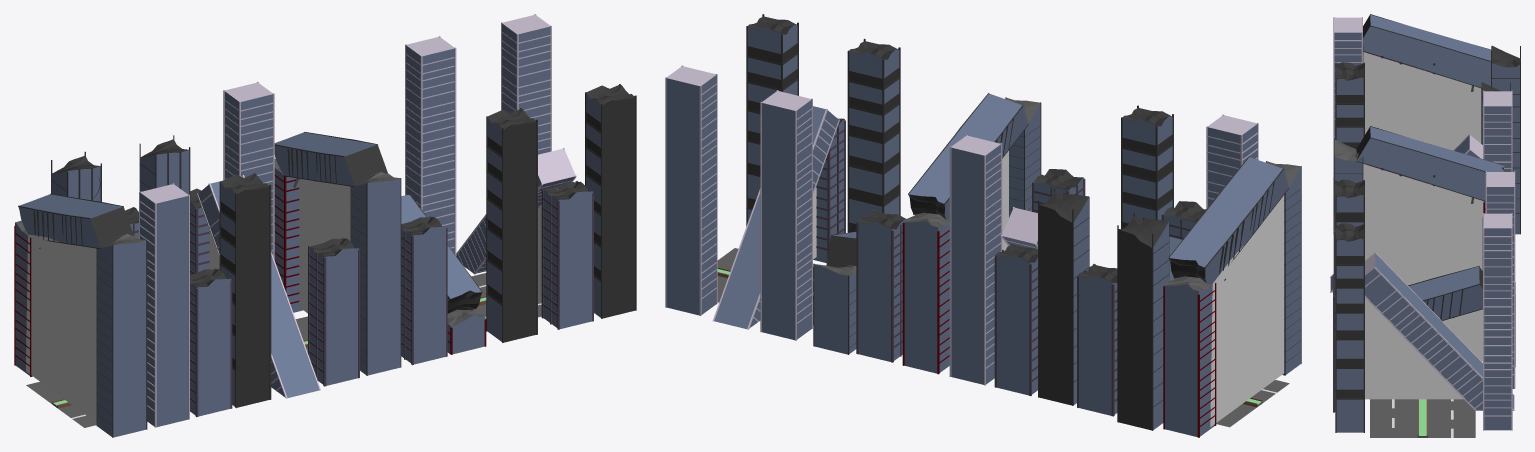
File: BuildingsWithPanels.fbx
3 views of the same model, side by side, from view 1: azimuth 30°, elevation 25°; view 2: azimuth 150°, elevation 25°; view 3: azimuth 270°, elevation 25° (orthographic). The views are drawn at different scales.
Parts seen in each view (by area): view 1: Plane.012, Plane.004, Plane.032, Plane.002, Plane.017, Plane.013, Plane.025, Plane.022, Plane.027, Plane.020, Plane.006, Plane.016 (+14 smaller); view 2: Plane.012, Plane.025, Plane.026, Plane.008, Plane.032, Plane.004, Plane.018, Plane.014, Plane.023, Plane, Plane.024, Plane.019 (+14 smaller); view 3: Plane.031, Plane.032, Plane.003, Plane.026, Plane.002, Plane.021, Plane, Plane.007, Plane.001, Plane.012, Plane.005, Plane.017 (+8 smaller).
Part boxes in pixels (left/top/right/bottom): Plane.012: left=51, top=151, right=189, bottom=427; Plane.004: left=486, top=108, right=537, bottom=342; Plane.032: left=26, top=234, right=96, bottom=422; Plane.002: left=585, top=84, right=636, bottom=318; Plane.017: left=219, top=173, right=271, bottom=408; Plane.013: left=96, top=233, right=147, bottom=437; Plane.025: left=405, top=36, right=456, bottom=255; Plane.022: left=350, top=171, right=401, bottom=375; Plane.027: left=541, top=181, right=593, bottom=329; Plane.020: left=308, top=237, right=359, bottom=386; Plane.006: left=401, top=216, right=447, bottom=365; Plane.016: left=190, top=268, right=232, bottom=417; Plane.012: left=1117, top=114, right=1258, bottom=430; Plane.025: left=760, top=90, right=812, bottom=340; Plane.026: left=665, top=65, right=717, bottom=315; Plane.008: left=949, top=134, right=1002, bottom=385; Plane.032: left=1210, top=195, right=1284, bottom=426; Plane.004: left=847, top=38, right=900, bottom=232; Plane.018: left=1038, top=188, right=1089, bottom=405; Plane.014: left=1163, top=276, right=1216, bottom=437; Plane.023: left=902, top=213, right=949, bottom=374; Plane: left=1168, top=156, right=1288, bottom=284; Plane.024: left=856, top=210, right=906, bottom=362; Plane.019: left=994, top=243, right=1037, bottom=395; Plane.031: left=1363, top=164, right=1483, bottom=285; Plane.032: left=1363, top=52, right=1481, bottom=150; Plane.003: left=1365, top=252, right=1514, bottom=410; Plane.026: left=1483, top=213, right=1512, bottom=430; Plane.002: left=1335, top=223, right=1364, bottom=432; Plane.021: left=1356, top=126, right=1504, bottom=203; Plane: left=1363, top=14, right=1491, bottom=91; Plane.007: left=1365, top=298, right=1463, bottom=399; Plane.001: left=1370, top=399, right=1475, bottom=437; Plane.012: left=1333, top=17, right=1520, bottom=234; Plane.005: left=1408, top=266, right=1482, bottom=320; Plane.017: left=1335, top=62, right=1364, bottom=148.
Size of the model in its own units: 10659 by 4266 by 3605.
